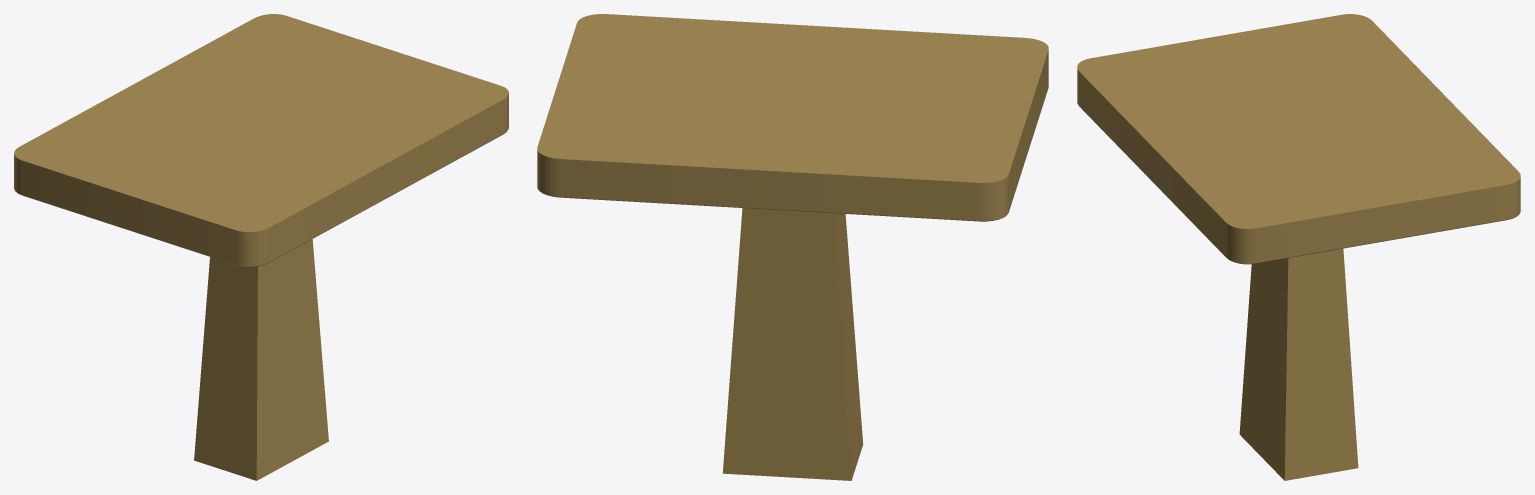
The model's file is coffeeshop_table_level03.glb.
The picture shows the model from 3 angles, left to right: view 1: azimuth 30°, elevation 25°; view 2: azimuth 150°, elevation 25°; view 3: azimuth 270°, elevation 25°; orthographic projection. The views are drawn at different scales.
Parts seen in each view (by area): view 1: Level3_Table; view 2: Level3_Table; view 3: Level3_Table.
Part boxes in pixels (box(x1,y1,x2,y2)): Level3_Table: box(14, 14, 508, 480); Level3_Table: box(537, 14, 1048, 480); Level3_Table: box(1077, 14, 1520, 480).
Size of the model in its own units: 2.4 by 1.71 by 2.09.
